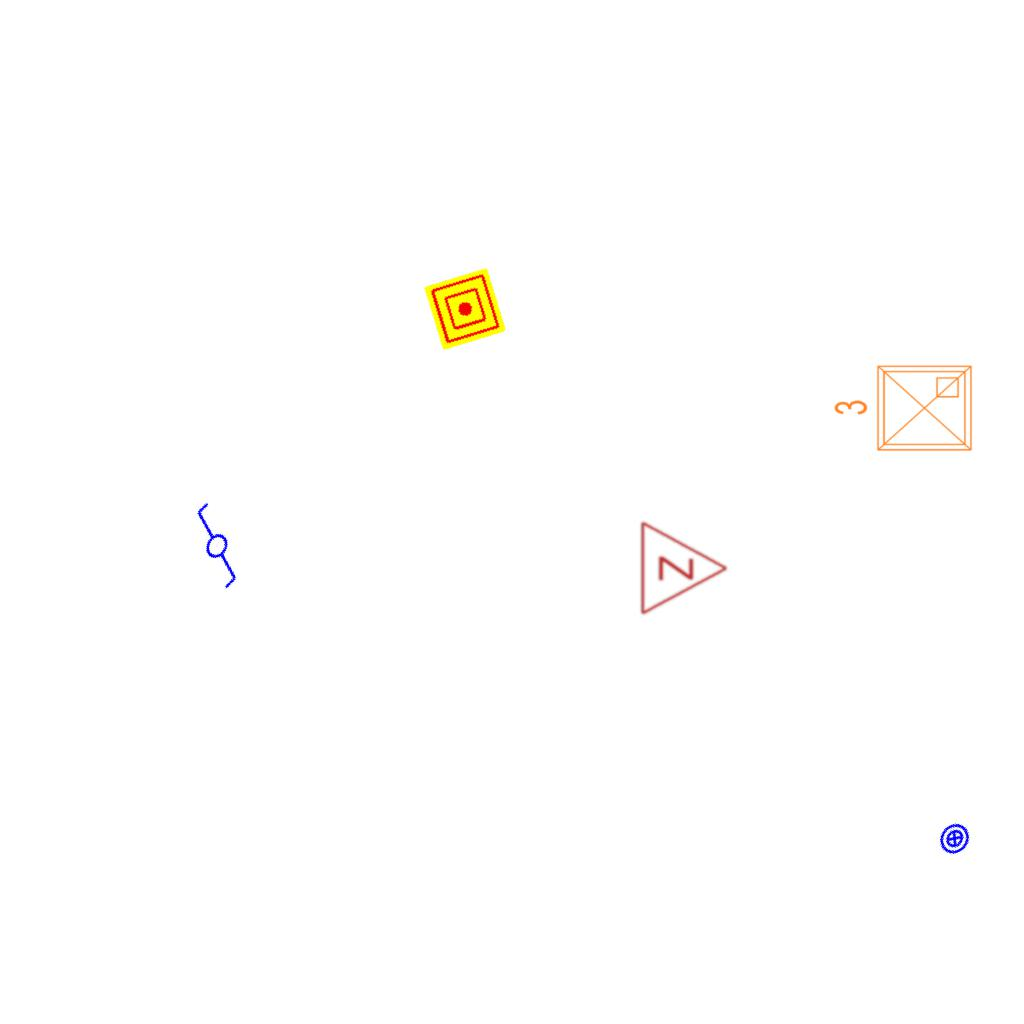Einbaudownlights_LED_Konferenzraeume: (829, 358, 979, 462)
NAM-Nichtautomatischer_Melder: (423, 267, 507, 351)
Taster_beleuchtet: (931, 815, 978, 862)
Wechselschalter: (163, 497, 265, 601)
Zimmersignalleuchte: (634, 518, 734, 616)
